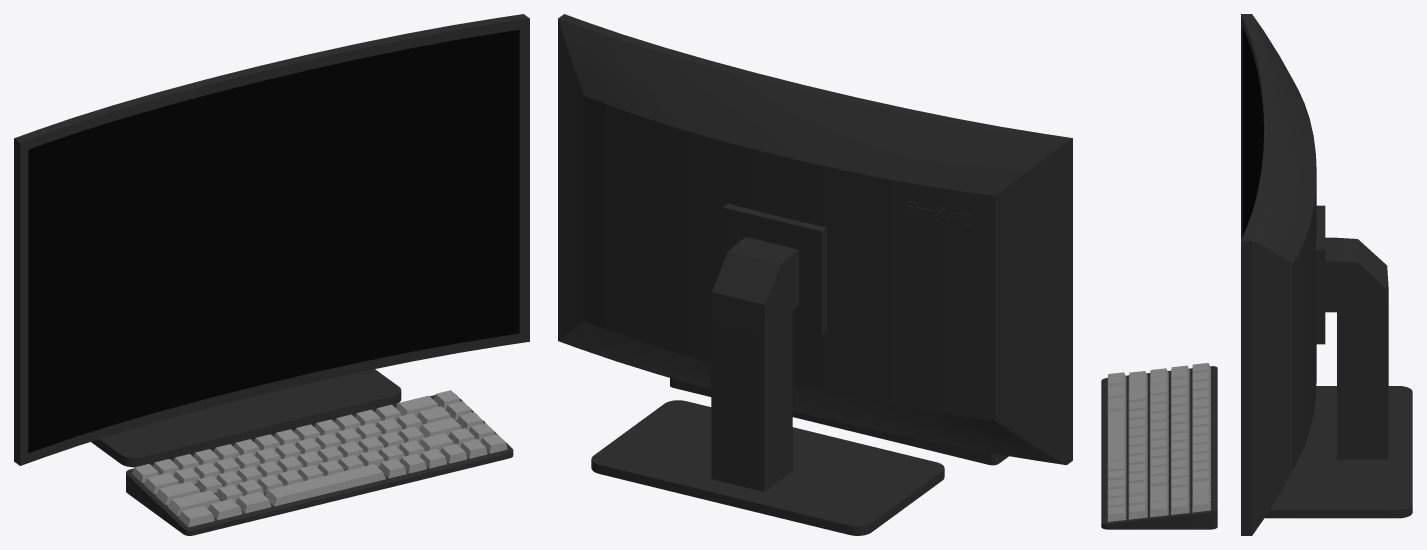
Rendered from desktop_computer.gltf.
The picture shows the model from 3 angles, left to right: view 1: azimuth 30°, elevation 25°; view 2: azimuth 150°, elevation 25°; view 3: azimuth 270°, elevation 25°; orthographic projection. The views are drawn at different scales.
Parts seen in each view (by area): view 1: Cube.929; view 2: Cube.929; view 3: Cube.929.
Part boxes in pixels (bbox=[...]): Cube.929: bbox=[14, 14, 529, 535]; Cube.929: bbox=[558, 14, 1072, 535]; Cube.929: bbox=[1101, 14, 1412, 535].
Bounding box in the file's own units: 2.31 × 1.56 × 1.34.
1 material, 1 textured.
